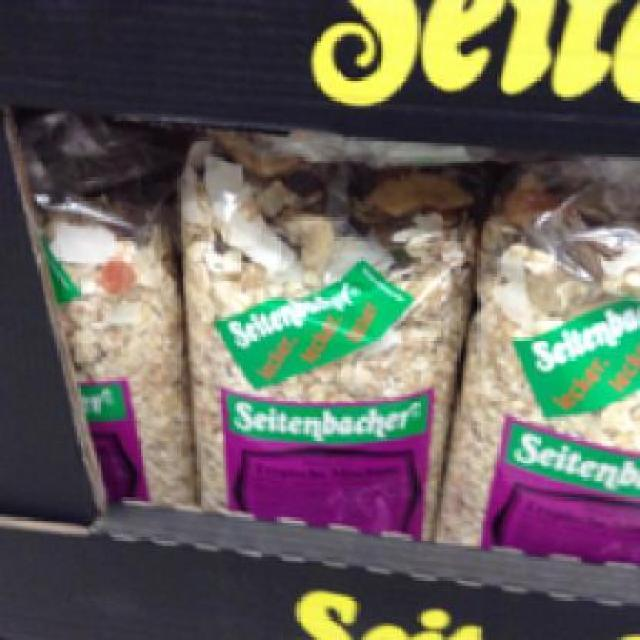Cereal: (174, 139, 472, 532), (440, 187, 637, 564)
